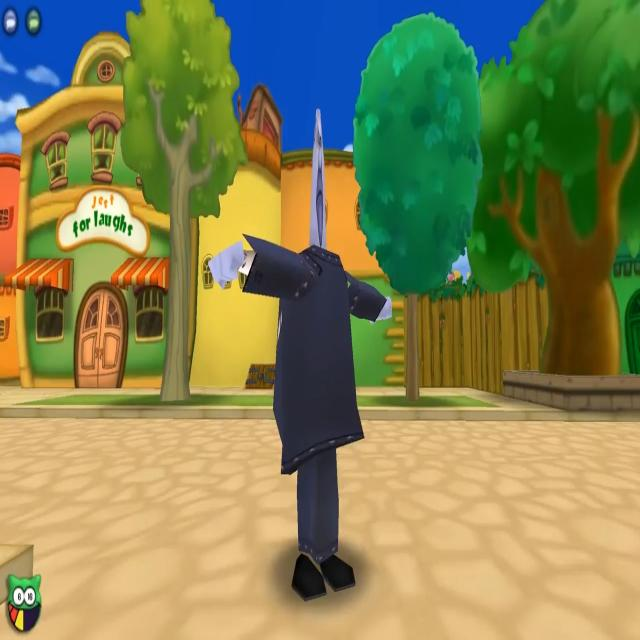bottomfeeder: (202, 108, 391, 614)
